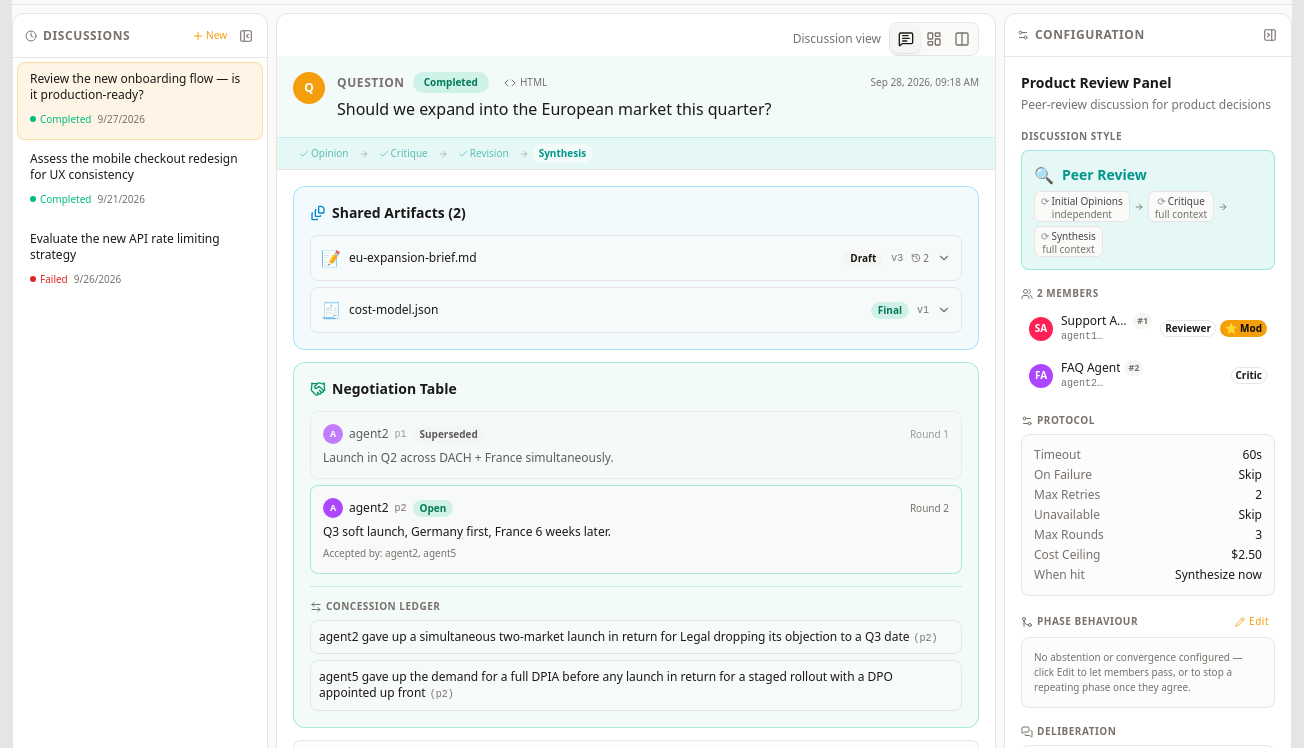
Test: GroupDetailPage — New Discussion › restores the attachment control, which is the property that was broken
Check: the button with test id "discussion-item-" is shown, box [17,62,263,140]
Click the button with test id "new-discussion-btn" at (210, 36), box [186,26,233,45]
(page scrolled)
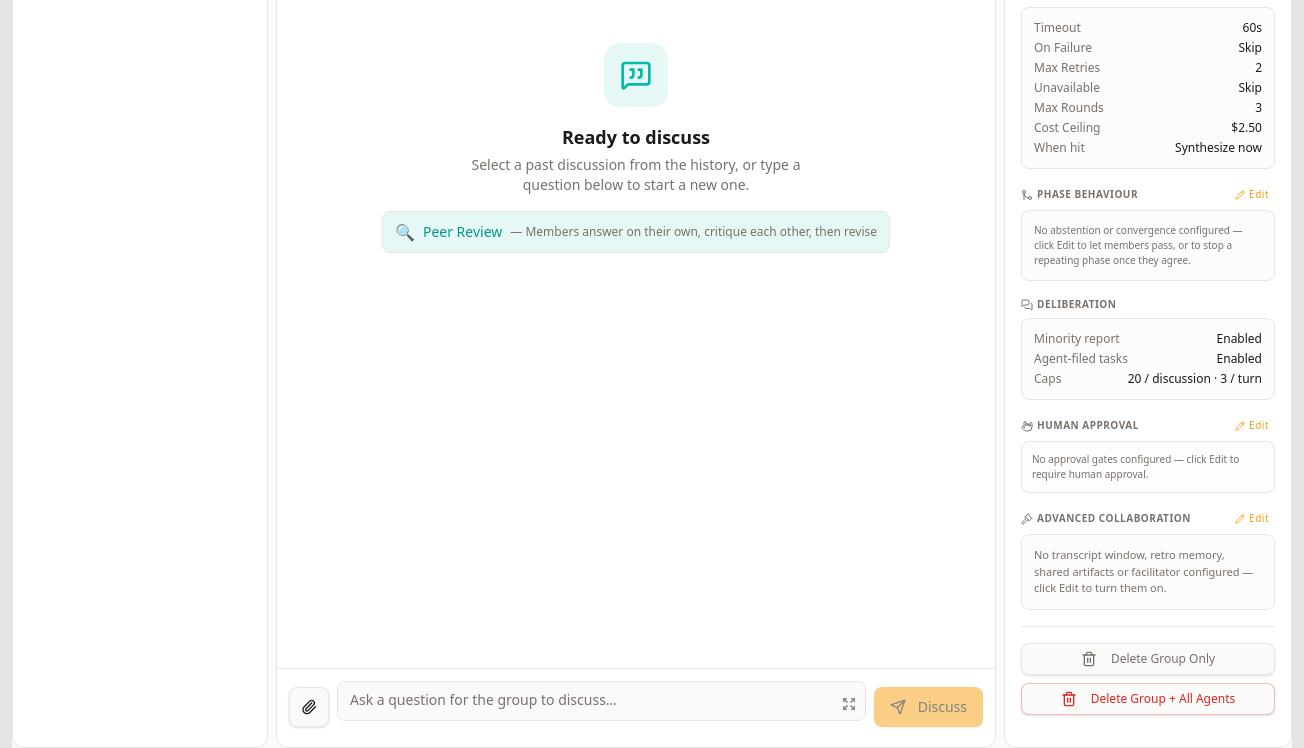
Check: the form with test id "discussion-file-input" is shown, box [277,668,995,746]
Check: the button with test id "discussion-attach-btn" is shown, box [289,686,329,726]
